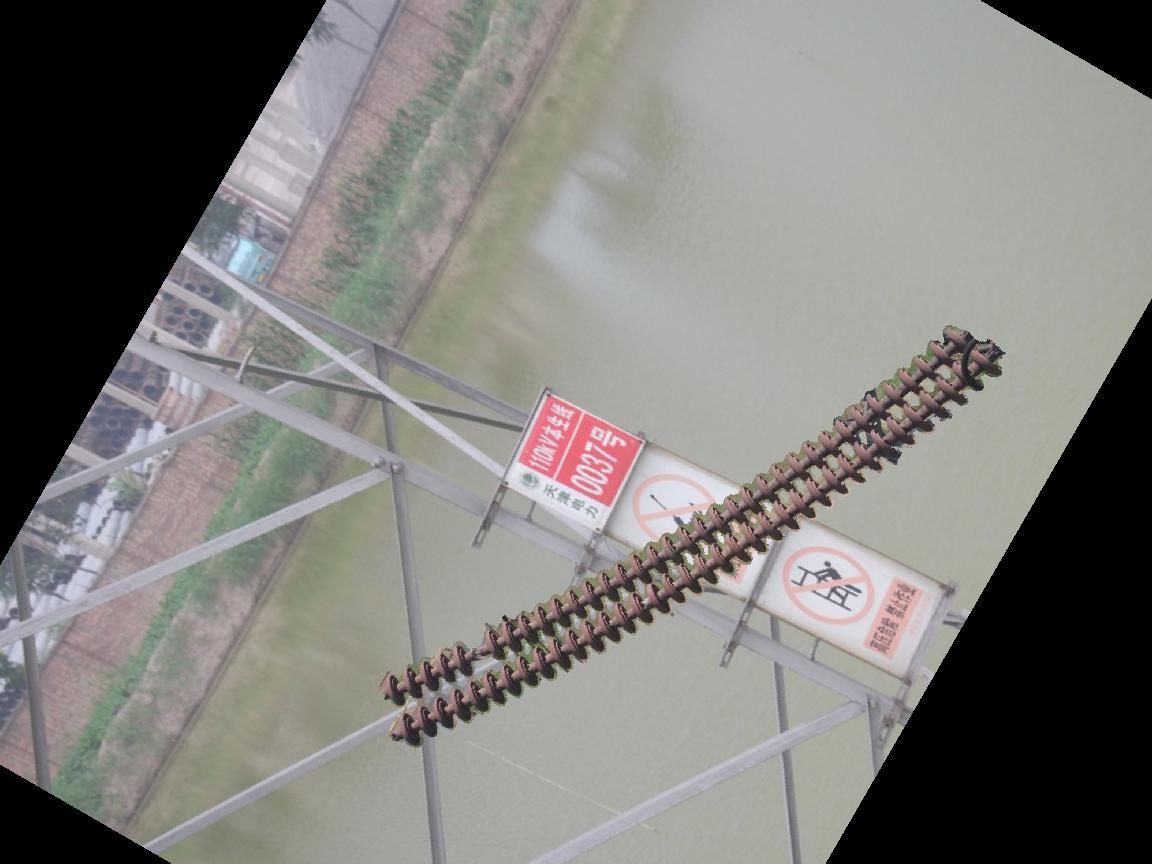insulator: (376, 318, 1011, 751)
insulator_stringdrop: (450, 624, 508, 679)
